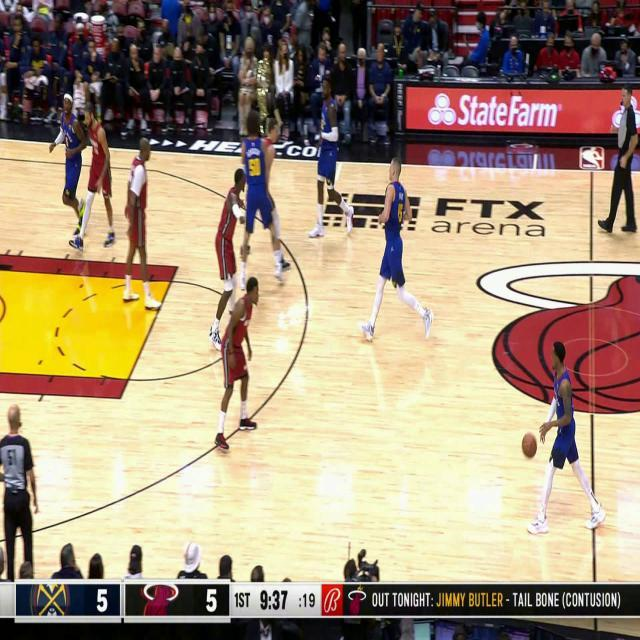rim: (524, 434, 536, 459)
